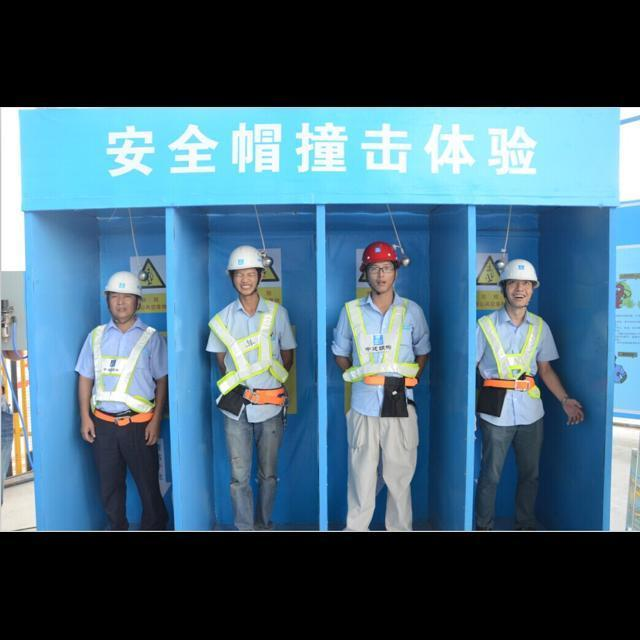helmet: (488, 249, 552, 291), (220, 240, 276, 286), (100, 266, 152, 305), (358, 232, 402, 270)
safety_vest: (335, 292, 449, 428), (202, 287, 302, 435), (476, 305, 562, 438), (74, 316, 164, 426)
